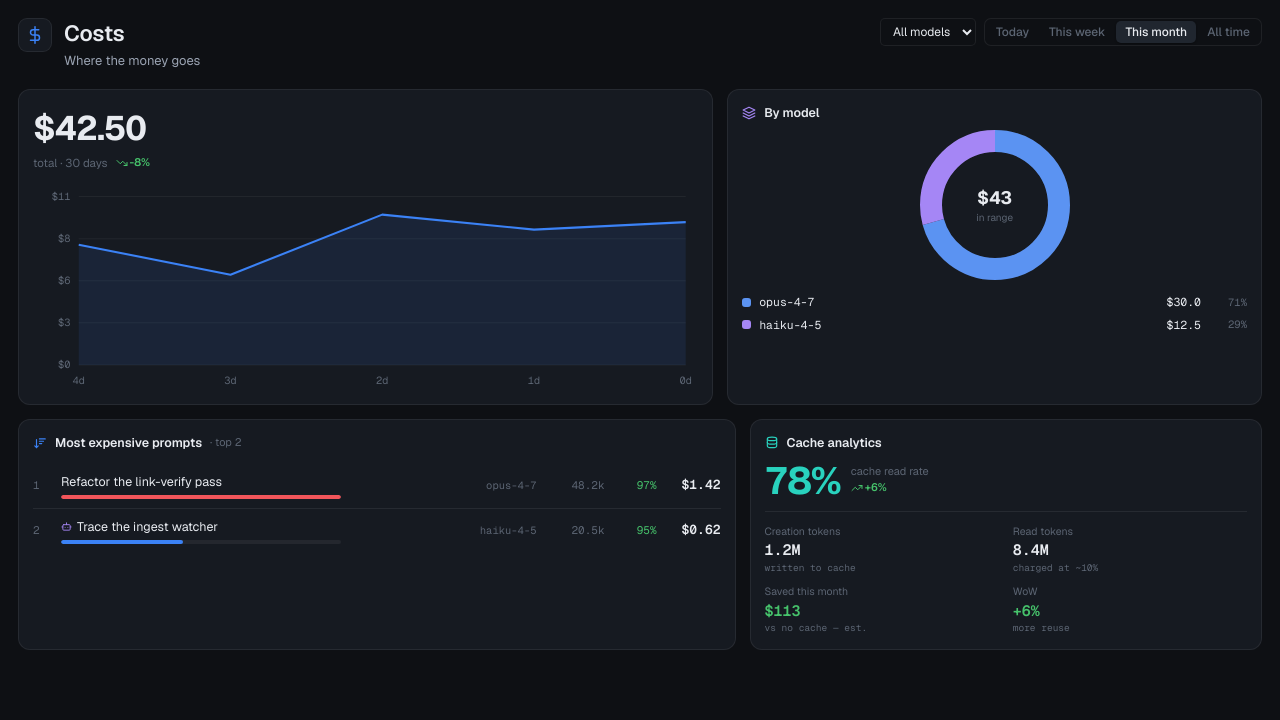
Test: CostsPage (REQ-DESKTOP-024) › A2: the model filter narrows the cards and rides the request
This screenshot has width=1280, height=720.
expect the text "$42.50" is shown: met, box [33,104,150,153]
Select "haiku-4-5" in the dropdown named "Model filter" at (928, 32), box [880,18,976,46]
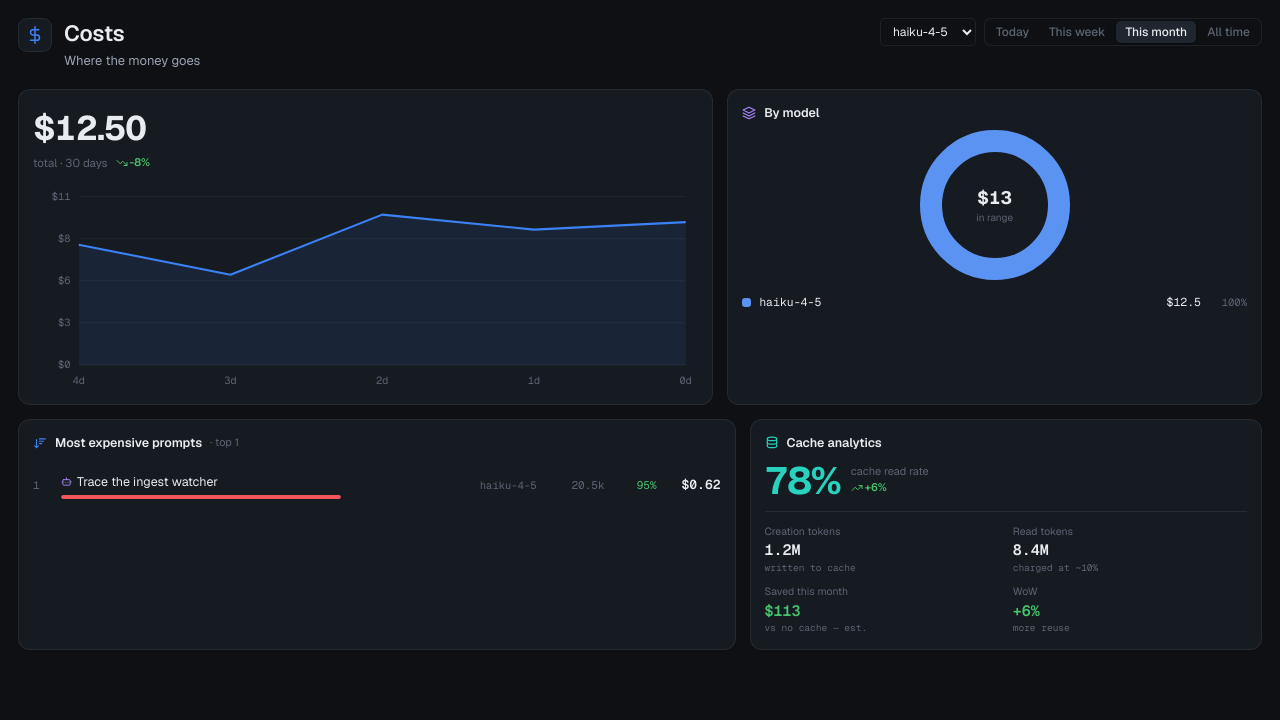
expect the text "Trace the ingest watcher" is shown: met, box [61,473,218,490]
expect the text "$12.50" is shown: met, box [33,104,150,153]
expect the button "Refactor the link-verify pass" is gone: met
